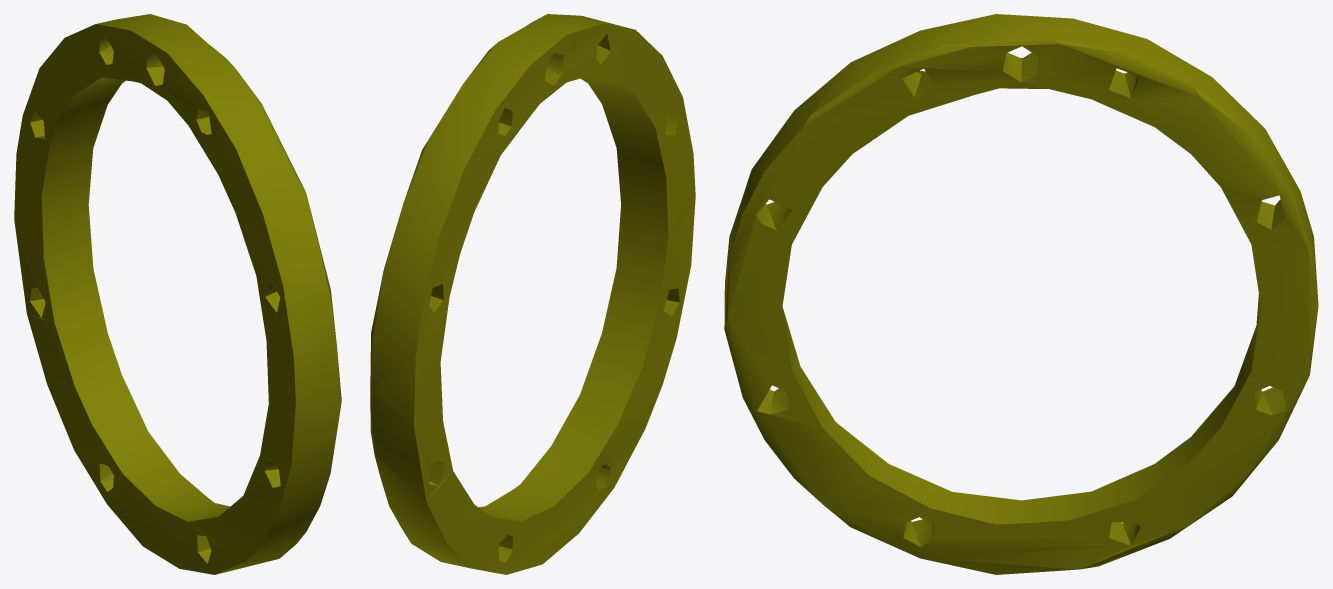
3 views of the same model, side by side, from view 1: azimuth 30°, elevation 25°; view 2: azimuth 150°, elevation 25°; view 3: azimuth 270°, elevation 25° (orthographic). The views are drawn at different scales.
Visible parts, largest first — view 1: f_1-06vxh12-a00_lk6; view 2: f_1-06vxh12-a00_lk6; view 3: f_1-06vxh12-a00_lk6.
Boxes of the visible parts, box(x1,y1,x2,y2) form: f_1-06vxh12-a00_lk6: box(14, 14, 341, 574); f_1-06vxh12-a00_lk6: box(370, 14, 695, 574); f_1-06vxh12-a00_lk6: box(724, 14, 1318, 574).
Bounding box in the file's own units: 0.00638 × 0.062 × 0.0621.
